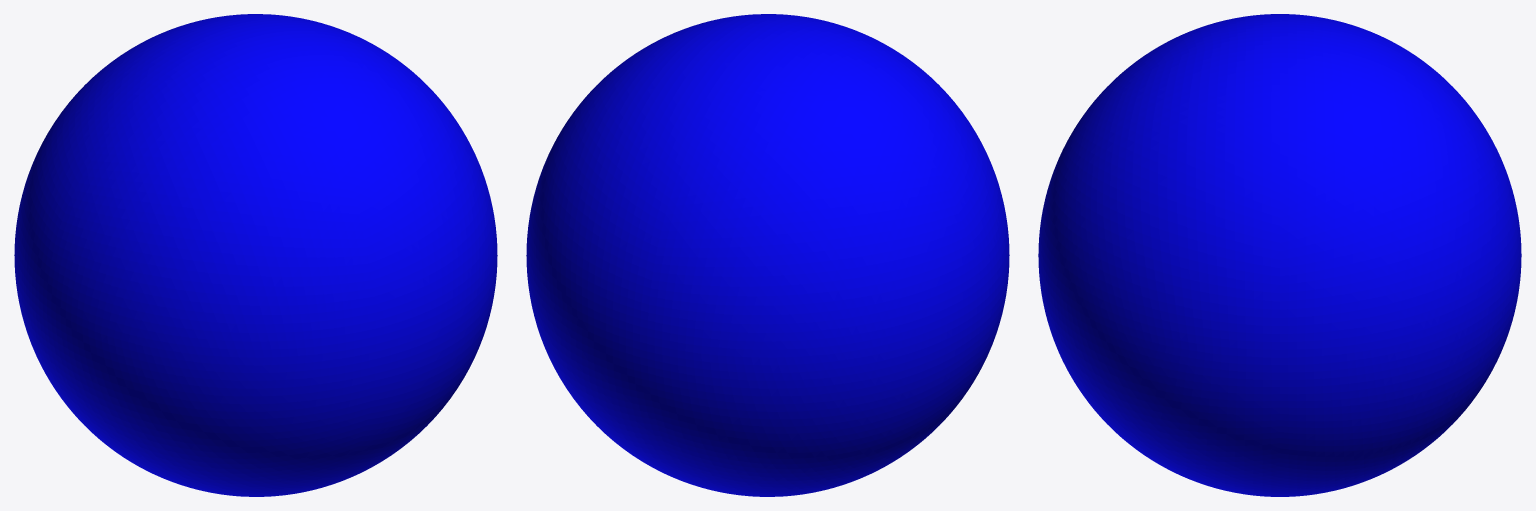
The model's file is manifold.glb.
3 renders of one model, left to right at view 1: azimuth 30°, elevation 25°; view 2: azimuth 150°, elevation 25°; view 3: azimuth 270°, elevation 25°, orthographic.
Parts seen in each view (by area): view 1: wrapper; view 2: wrapper; view 3: wrapper.
Boxes of the visible parts, x1,y1,x2,y2 form: wrapper: (14, 14, 497, 496); wrapper: (526, 14, 1009, 496); wrapper: (1038, 14, 1521, 496).
Size of what is drawn, in the model's own units: 0.2 by 0.2 by 0.2.
